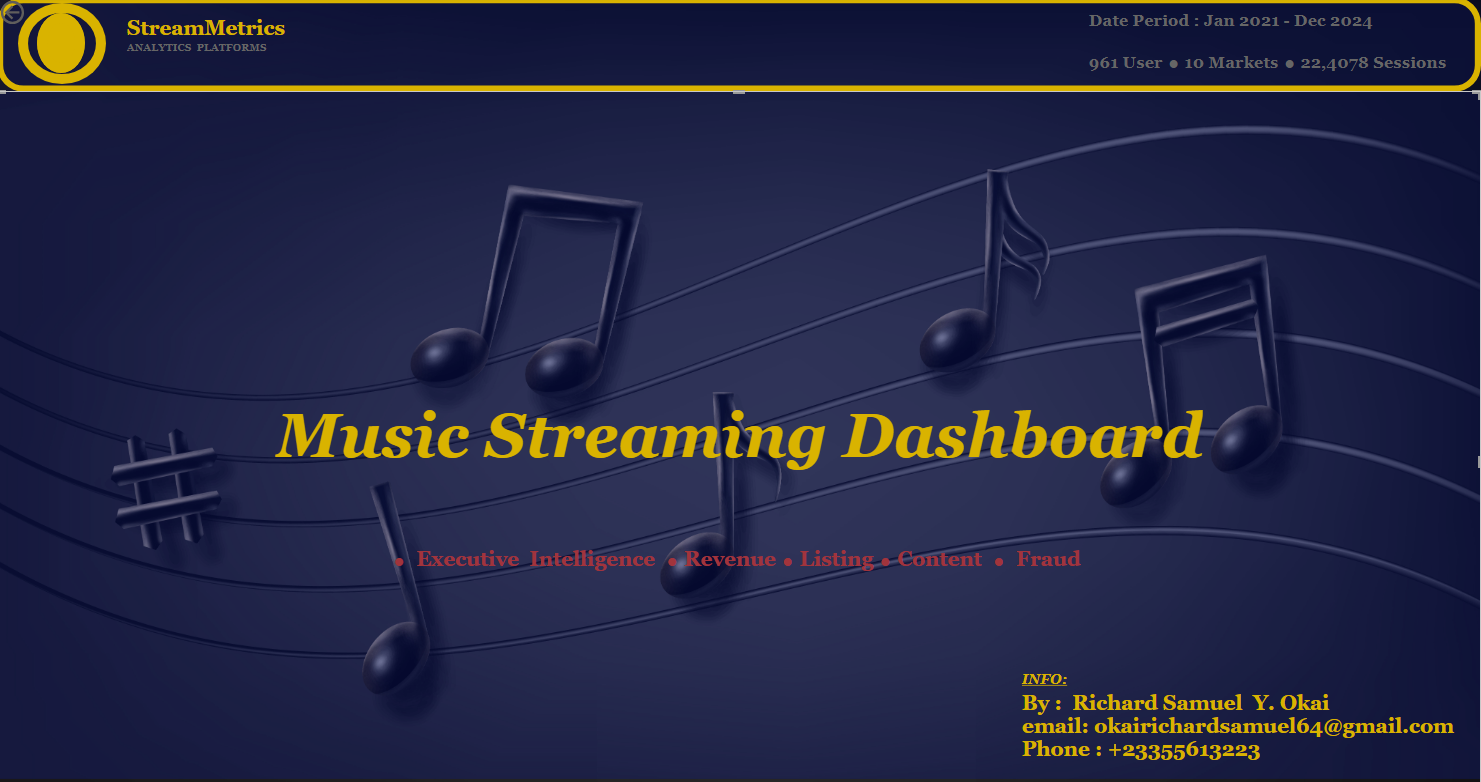

The page's visual inventory and layout, read from the dashboard file:
{"tool":"powerbi","page":{"name":"Homepage ","canvas":[1920,1080],"ordinal":0},"visuals":[{"type":"shape","box":[0,0,1920,122.6],"z":0},{"type":"actionButton","box":[0,0,100,40],"z":1000},{"type":"shape","box":[0,121.6,1920,890.2],"z":3000,"group":"g1"},{"type":"shape","box":[27.2,7.8,113.9,104.8],"z":4000},{"type":"shape","box":[51.8,20.7,62.1,77.6],"z":5000},{"type":"textbox","box":[163,20.7,393.3,80.2],"z":6000},{"type":"textbox","box":[1407.7,12.9,491.6,110],"z":6001},{"type":"textbox","box":[0,681.9,1920,398.4],"z":6002,"group":"g1"},{"type":"group","id":"g1","title":"Group 1","box":[0,121.6,1920,958.7],"z":6003},{"type":"textbox","title":"INFO:","box":[1321,872,578.3,129.4],"z":6004}]}

Visuals, with their boxes on the page's 1920x1080 design canvas (x1, y1, x2, y2). These are canvas units, not pixel positions in the 1481x782 screenshot, which may show the page scaled, cropped or inside an application window:
shape: <bbox>0, 0, 1920, 123</bbox>
actionButton: <bbox>0, 0, 100, 40</bbox>
shape: <bbox>0, 122, 1920, 1012</bbox>
shape: <bbox>27, 8, 141, 113</bbox>
shape: <bbox>52, 21, 114, 98</bbox>
textbox: <bbox>163, 21, 556, 101</bbox>
textbox: <bbox>1408, 13, 1899, 123</bbox>
textbox: <bbox>0, 682, 1920, 1080</bbox>
"Group 1" group: <bbox>0, 122, 1920, 1080</bbox>
"INFO:" textbox: <bbox>1321, 872, 1899, 1001</bbox>
